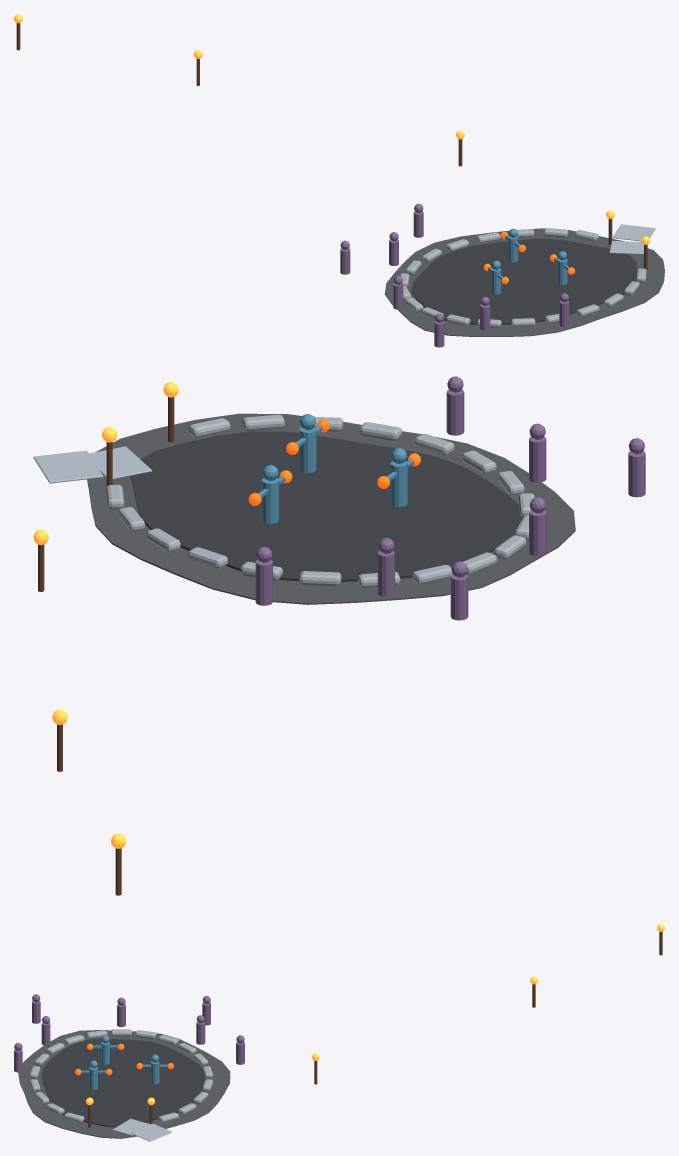
Rendered from winter-fire-court-graybox-r1.glb.
3 views of the same model, one above another, from view 1: azimuth 30°, elevation 25°; view 2: azimuth 150°, elevation 25°; view 3: azimuth 270°, elevation 25° (orthographic). The views are drawn at different scales.
Parts seen in each view (by area): view 1: WF_Court_Surface, WF_Court_SafetyApron, WF_Route_fire-court-to-lodge-spur_02; view 2: WF_Court_Surface, WF_Court_SafetyApron, WF_Route_fire-court-to-lodge-spur_02, WF_Route_fire-court-to-lodge-spur_01, WF_Friend_observer-1_Body, WF_Friend_standing-2_Body, WF_Friend_observer-2_Body, WF_Friend_standing-1_Body, WF_Friend_standing-3_Body, WF_Friend_observer-3_Body, WF_Friend_observer-4_Body, WF_Friend_spinner-3_Body (+2 smaller); view 3: WF_Court_Surface, WF_Court_SafetyApron, WF_Route_fire-court-to-lodge-spur_02.
Boxes of the visible parts, x1,y1,x2,y2 form: WF_Court_Surface: (411, 238, 637, 324); WF_Court_SafetyApron: (384, 228, 664, 336); WF_Route_fire-court-to-lodge-spur_02: (612, 224, 655, 241); WF_Court_Surface: (130, 431, 522, 581); WF_Court_SafetyApron: (87, 413, 575, 604); WF_Route_fire-court-to-lodge-spur_02: (33, 450, 103, 483); WF_Route_fire-court-to-lodge-spur_01: (89, 446, 152, 479); WF_Friend_observer-1_Body: (446, 389, 464, 435); WF_Friend_standing-2_Body: (450, 574, 468, 620); WF_Friend_observer-2_Body: (529, 436, 546, 482); WF_Friend_standing-1_Body: (255, 559, 272, 605); WF_Friend_standing-3_Body: (628, 451, 645, 497); WF_Friend_observer-3_Body: (529, 510, 546, 556); WF_Friend_observer-4_Body: (377, 551, 394, 596); WF_Friend_spinner-3_Body: (261, 478, 279, 523); WF_Court_Surface: (41, 1038, 205, 1127); WF_Court_SafetyApron: (18, 1030, 230, 1138); WF_Route_fire-court-to-lodge-spur_02: (130, 1123, 171, 1141).
Size of the model in its own units: 17.54 by 4.34 by 32.82.
